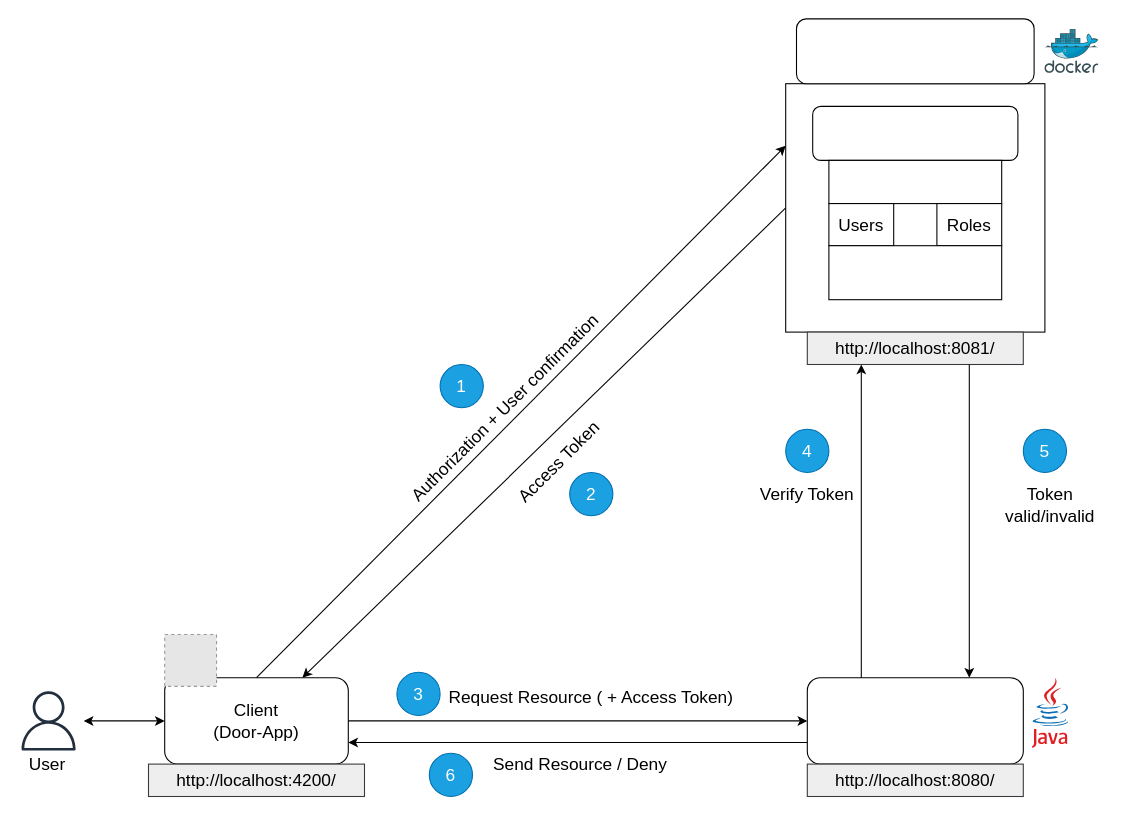
The diagram is 1138 pixels wide and 815 high, and some of its shapes have lost their labels. Grey dashed boxes stand in for pictures. Each missing label, with the box of its shape:
Authentication Server: (795, 18, 1034, 84)
Keycloak: (812, 105, 1018, 160)
MHP realm: (828, 159, 1002, 204)
Registered Clients (mhp-door-service): (828, 245, 1002, 300)
Resource Server: (806, 677, 1023, 764)
